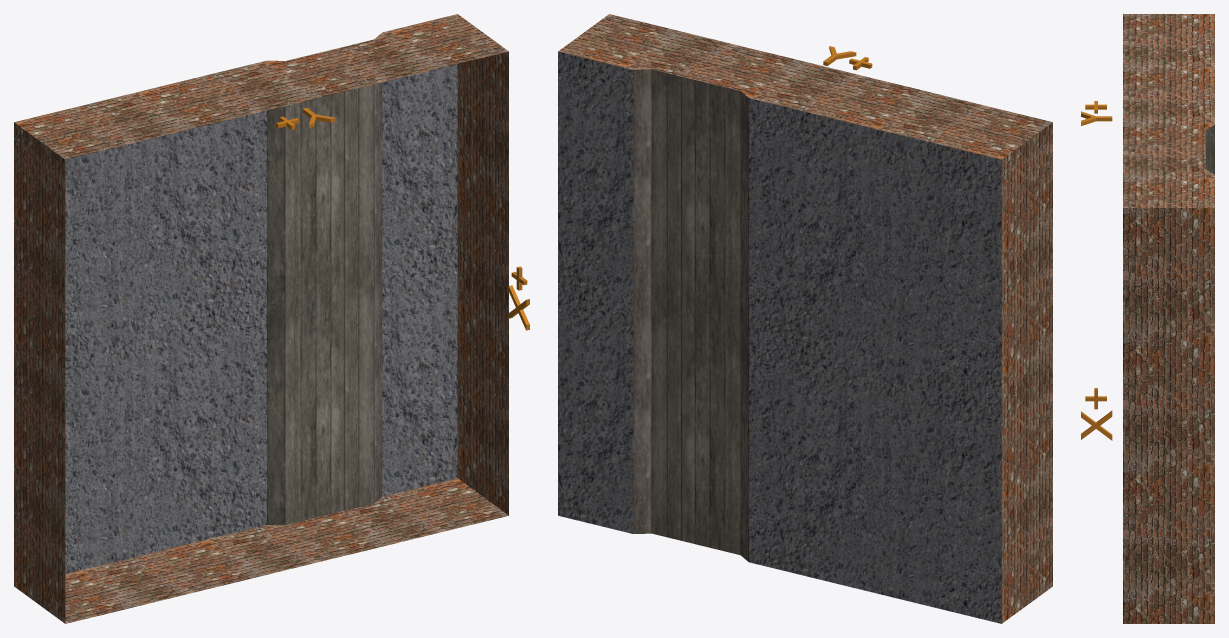
Rendered from area.obj.
3 views of the same model, side by side, from view 1: azimuth 30°, elevation 25°; view 2: azimuth 150°, elevation 25°; view 3: azimuth 270°, elevation 25° (orthographic). The views are drawn at different scales.
Parts seen in each view (by area): view 1: Plane; view 2: Plane; view 3: Plane, Text.001, Text.
Part boxes in pixels (x1,y1,x2,y2): Plane: (14, 14, 508, 623); Plane: (558, 14, 1052, 623); Plane: (1123, 14, 1214, 623); Text.001: (1081, 388, 1112, 440); Text: (1081, 101, 1112, 125).
Size of the model in its own units: 10 by 10 by 2.92.
